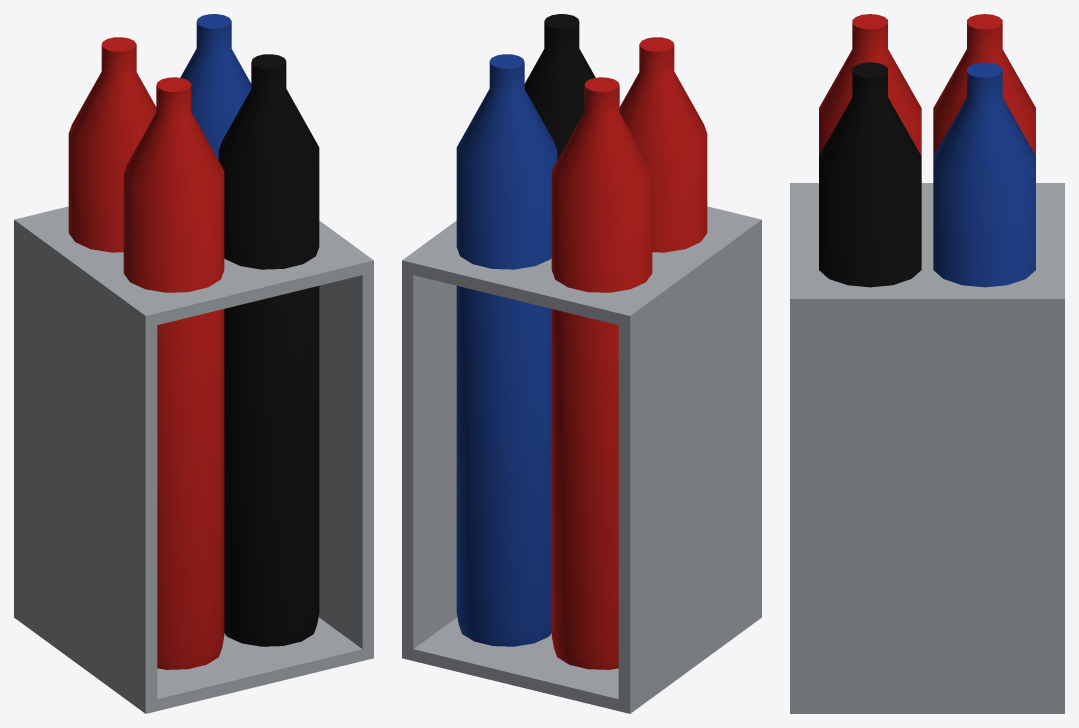
File: plant.store.gas_bottles.glb
3 renders of one model, left to right at view 1: azimuth 30°, elevation 25°; view 2: azimuth 150°, elevation 25°; view 3: azimuth 270°, elevation 25°, orthographic. The views are drawn at different scales.
Parts seen in each view (by area): view 1: main__steel_galvanised, main__hazard_red, main__plastic_black, main__plastic_blue; view 2: main__steel_galvanised, main__hazard_red, main__plastic_blue, main__plastic_black; view 3: main__steel_galvanised, main__plastic_black, main__plastic_blue, main__hazard_red.
Boxes of the visible parts, x1,y1,x2,y2 form: main__steel_galvanised: (14, 206, 373, 713); main__hazard_red: (68, 37, 224, 669); main__plastic_black: (218, 54, 319, 646); main__plastic_blue: (180, 14, 251, 159); main__steel_galvanised: (402, 206, 761, 713); main__hazard_red: (551, 37, 707, 669); main__plastic_blue: (456, 54, 557, 646); main__plastic_black: (524, 14, 595, 159); main__steel_galvanised: (790, 183, 1064, 713); main__plastic_black: (819, 62, 921, 287); main__plastic_blue: (933, 62, 1035, 287); main__hazard_red: (819, 14, 1035, 155).
Size of the model in its own units: 0.6 by 1.47 by 0.6.
